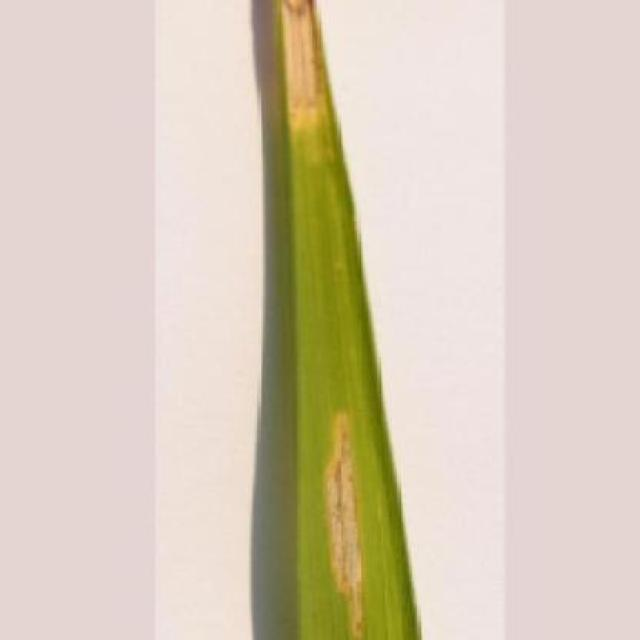Brown_Spot: (275, 0, 420, 640)
